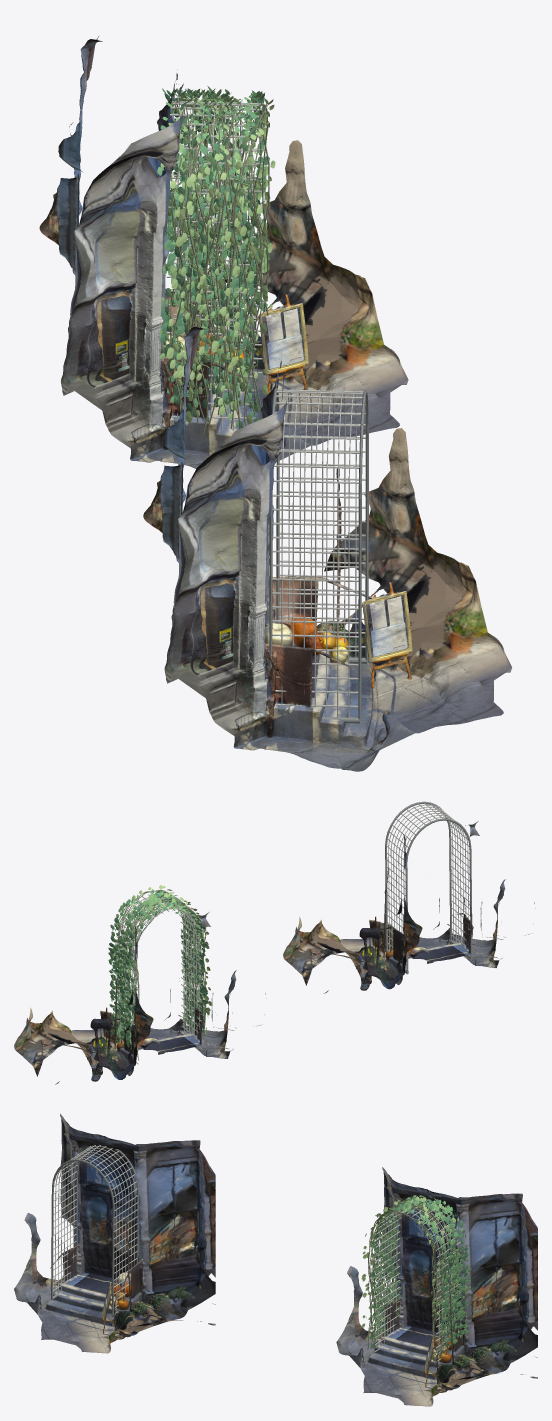
File: salt-model.glb
3 views of the same model, one above another, from view 1: azimuth 30°, elevation 25°; view 2: azimuth 150°, elevation 25°; view 3: azimuth 270°, elevation 25° (orthographic). The views are drawn at different scales.
Parts seen in each view (by area): view 1: Mesh_0.002, Mesh_0.001, Cattle_panel_wire_grid.002, SALT_VINE_OLD_STEMS, SALT_VINE_LEAVES_5, SALT_VINE_LEAVES_2, SALT_VINE_LEAVES_1, SALT_VINE_LEAVES_4, Cattle_panel_wire_grid.001, Arch_support_frame, SALT_VINE_LEAVES_3, SALT_VINE_NEW_STEMS; view 2: Mesh_0.002, Mesh_0.001, Cattle_panel_wire_grid.002, Cattle_panel_wire_grid.001, SALT_VINE_LEAVES_3, SALT_VINE_LEAVES_2, Arch_support_frame, SALT_VINE_LEAVES_4, SALT_VINE_OLD_STEMS, SALT_VINE_LEAVES_1, SALT_VINE_LEAVES_5, SALT_VINE_NEW_STEMS; view 3: Mesh_0.002, Mesh_0.001, Cattle_panel_wire_grid.002, Cattle_panel_wire_grid.001, SALT_VINE_LEAVES_3, SALT_VINE_OLD_STEMS, SALT_VINE_LEAVES_2, Arch_support_frame, SALT_VINE_LEAVES_4, SALT_VINE_LEAVES_1, SALT_VINE_LEAVES_5, SALT_VINE_NEW_STEMS.
Boxes of the visible parts, x1,y1,x2,y2 form: Mesh_0.002: (143, 324, 512, 771); Mesh_0.001: (39, 36, 408, 468); Cattle_panel_wire_grid.002: (272, 389, 365, 717); SALT_VINE_OLD_STEMS: (170, 100, 269, 435); SALT_VINE_LEAVES_5: (166, 95, 275, 424); SALT_VINE_LEAVES_2: (160, 89, 267, 421); SALT_VINE_LEAVES_1: (159, 88, 269, 428); SALT_VINE_LEAVES_4: (158, 89, 268, 419); Cattle_panel_wire_grid.001: (166, 101, 263, 430); Arch_support_frame: (269, 388, 368, 723); SALT_VINE_LEAVES_3: (157, 86, 263, 408); SALT_VINE_NEW_STEMS: (168, 98, 265, 407); Mesh_0.002: (283, 821, 535, 993); Mesh_0.001: (14, 912, 266, 1084); Cattle_panel_wire_grid.002: (386, 802, 469, 965); Cattle_panel_wire_grid.001: (116, 894, 202, 1064); SALT_VINE_LEAVES_3: (108, 889, 206, 1045); SALT_VINE_LEAVES_2: (109, 890, 207, 1052); Arch_support_frame: (385, 801, 472, 974); SALT_VINE_LEAVES_4: (110, 891, 208, 1049); SALT_VINE_OLD_STEMS: (116, 889, 206, 1060); SALT_VINE_LEAVES_1: (109, 891, 207, 1044); SALT_VINE_LEAVES_5: (114, 885, 211, 1054); SALT_VINE_NEW_STEMS: (115, 896, 205, 1023); Mesh_0.002: (14, 1113, 215, 1353); Mesh_0.001: (336, 1167, 537, 1406); Cattle_panel_wire_grid.002: (53, 1145, 137, 1312); Cattle_panel_wire_grid.001: (374, 1199, 460, 1368); SALT_VINE_LEAVES_3: (373, 1195, 471, 1352); SALT_VINE_OLD_STEMS: (367, 1196, 457, 1363); SALT_VINE_LEAVES_2: (370, 1197, 468, 1358); Arch_support_frame: (51, 1145, 138, 1316); SALT_VINE_LEAVES_4: (370, 1195, 469, 1357); SALT_VINE_LEAVES_1: (370, 1196, 467, 1355); SALT_VINE_LEAVES_5: (361, 1196, 456, 1358); SALT_VINE_NEW_STEMS: (370, 1198, 461, 1337).
Bounding box in the file's own units: 35.41 × 19.06 × 53.72.
Materials: 15 (2 with a texture image).
